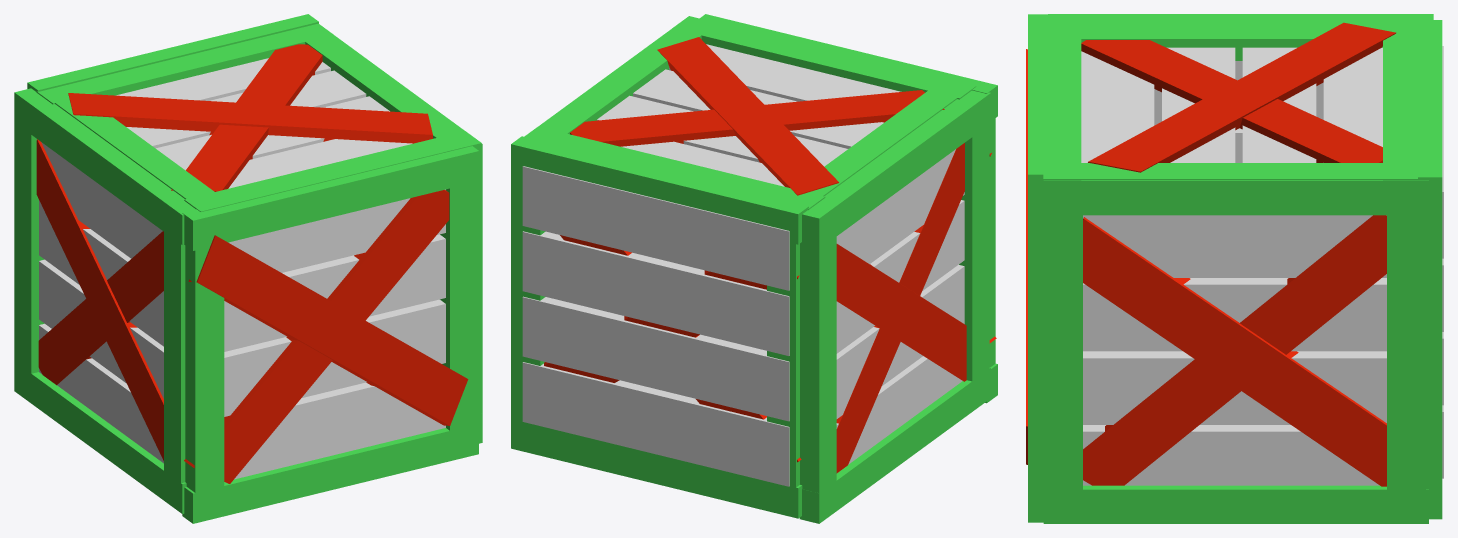
3 renders of one model, left to right at view 1: azimuth 30°, elevation 25°; view 2: azimuth 150°, elevation 25°; view 3: azimuth 270°, elevation 25°, orthographic. The views are drawn at different scales.
Visible parts, largest first — view 1: Cube.003; view 2: Cube.003; view 3: Cube.003.
Part boxes in pixels (x1,y1,x2,y2): Cube.003: (14,14,482,523); Cube.003: (511,14,997,523); Cube.003: (1026,14,1443,523).
Bounding box in the file's own units: 3782 × 3703 × 3997.
